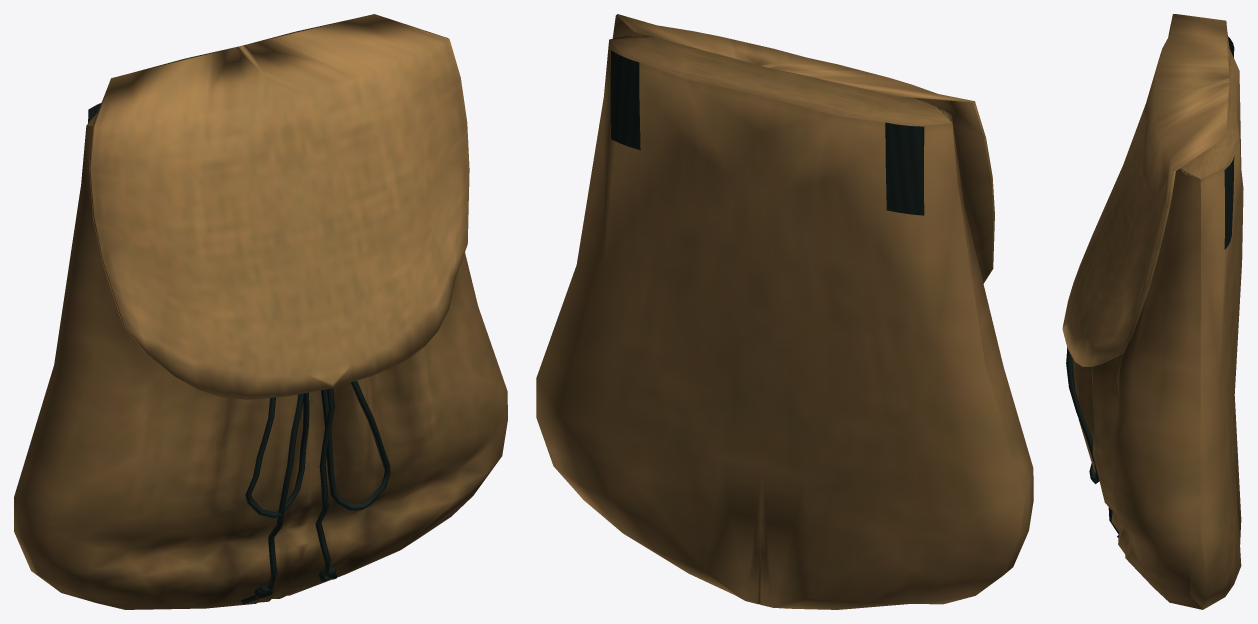
The model's file is OchreClothPouchLow.glb.
3 renders of one model, left to right at view 1: azimuth 30°, elevation 25°; view 2: azimuth 150°, elevation 25°; view 3: azimuth 270°, elevation 25°, orthographic. The views are drawn at different scales.
Visible parts, largest first — view 1: Symmetric Cloth Pouch; view 2: Symmetric Cloth Pouch; view 3: Symmetric Cloth Pouch.
Part boxes in pixels (x1,y1,x2,y2): Symmetric Cloth Pouch: [14, 14, 507, 609]; Symmetric Cloth Pouch: [536, 14, 1033, 609]; Symmetric Cloth Pouch: [1062, 14, 1243, 609].
Bounding box in the file's own units: 0.9616 × 1.01 × 0.3422.
1 material, 1 textured.
